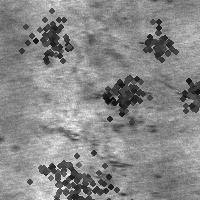rolled-in_scale: (47, 89, 158, 197), (39, 27, 158, 94), (35, 142, 131, 200), (15, 1, 85, 71), (91, 61, 153, 123), (26, 141, 84, 199), (132, 17, 178, 63), (168, 69, 200, 119)
